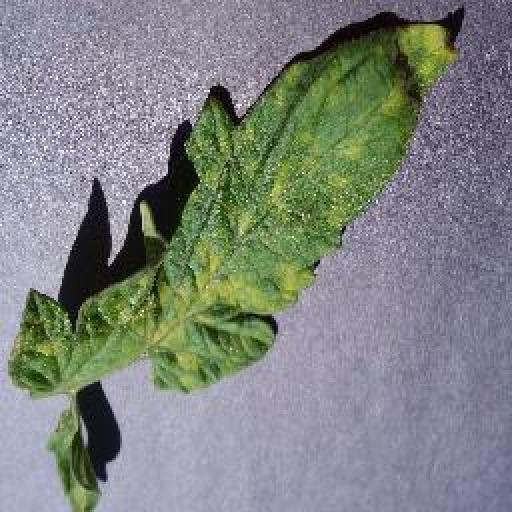Leaf Mold: (10, 18, 456, 398)
